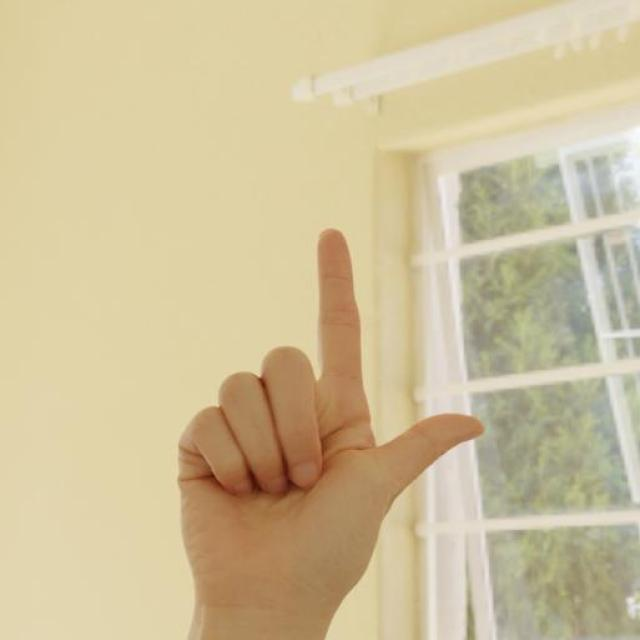L: (173, 223, 493, 604)
